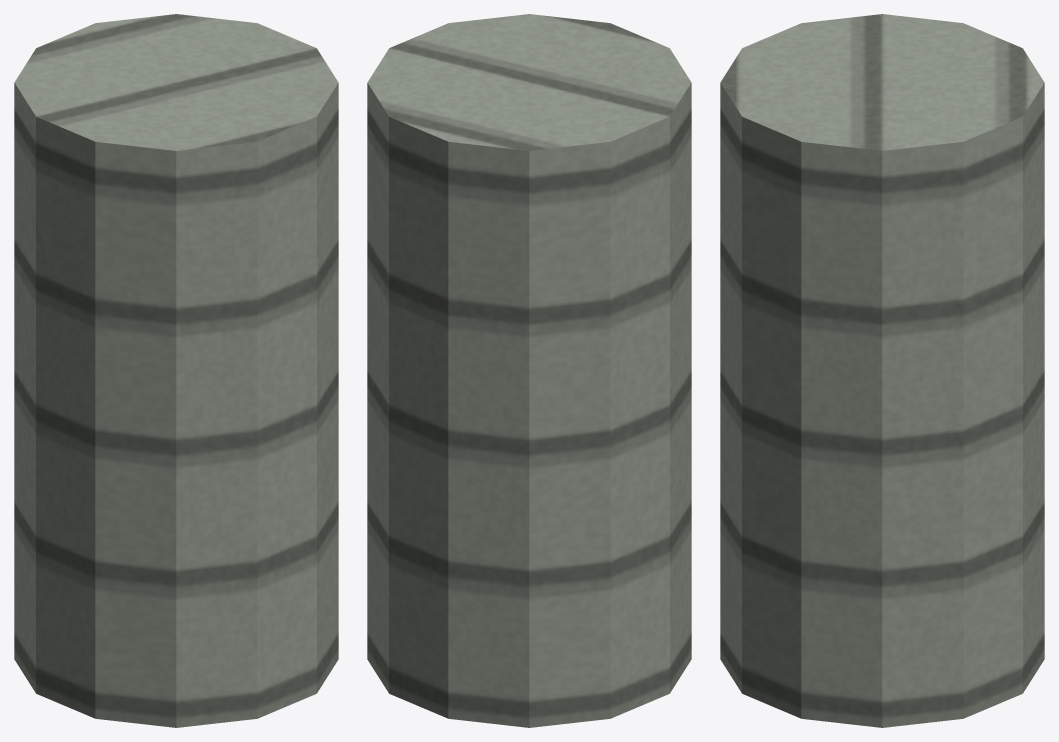
Rendered from umbrella_stand.glb.
3 views of the same model, side by side, from view 1: azimuth 30°, elevation 25°; view 2: azimuth 150°, elevation 25°; view 3: azimuth 270°, elevation 25° (orthographic).
Visible parts, largest first — view 1: umbrella_stand-col; view 2: umbrella_stand-col; view 3: umbrella_stand-col.
Part boxes in pixels (x1,y1,x2,y2): umbrella_stand-col: [14, 14, 338, 727]; umbrella_stand-col: [367, 14, 691, 727]; umbrella_stand-col: [720, 14, 1044, 727].
Size of the model in its own units: 0.28 by 0.55 by 0.28.
1 material, 1 textured.
